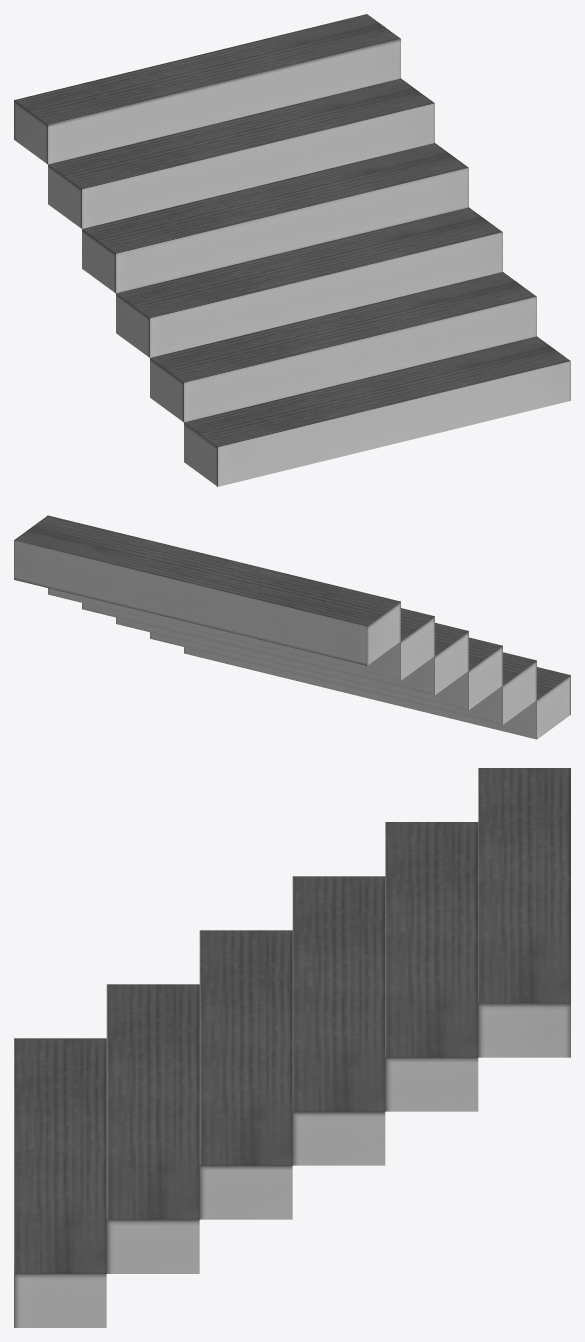
The model's file is StairsFlt2x2x1_5Simp.gltf.
3 renders of one model, top to bottom at view 1: azimuth 30°, elevation 25°; view 2: azimuth 150°, elevation 25°; view 3: azimuth 270°, elevation 25°, orthographic. The views are drawn at different scales.
Parts seen in each view (by area): view 1: StairsFlt2x2x1_5SimpShape; view 2: StairsFlt2x2x1_5SimpShape; view 3: StairsFlt2x2x1_5SimpShape.
Part boxes in pixels (left/top/right/bottom): StairsFlt2x2x1_5SimpShape: left=14, top=14, right=570, bottom=486; StairsFlt2x2x1_5SimpShape: left=14, top=515, right=570, bottom=739; StairsFlt2x2x1_5SimpShape: left=14, top=768, right=570, bottom=1327.
Size of the model in its own units: 2 by 1.29 by 2.
